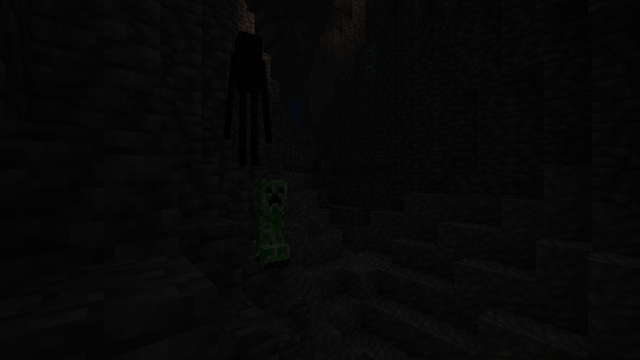creepers: (249, 175, 291, 269)
endermens: (230, 23, 266, 163)
